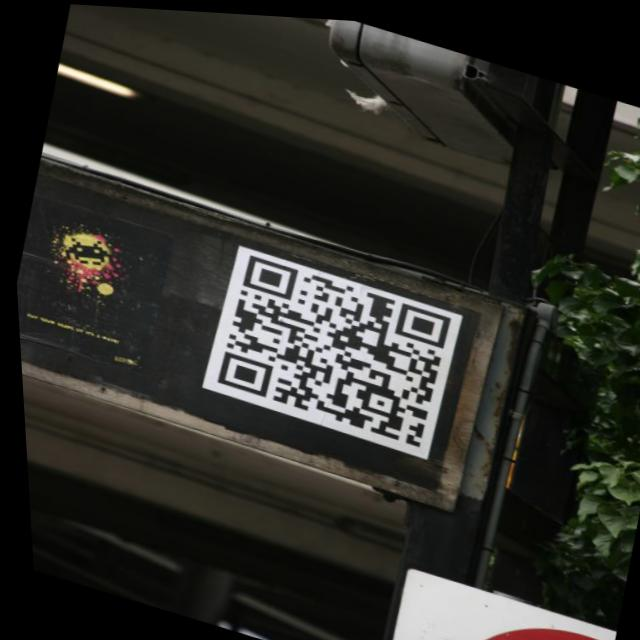qrcode: (207, 249, 454, 446)
